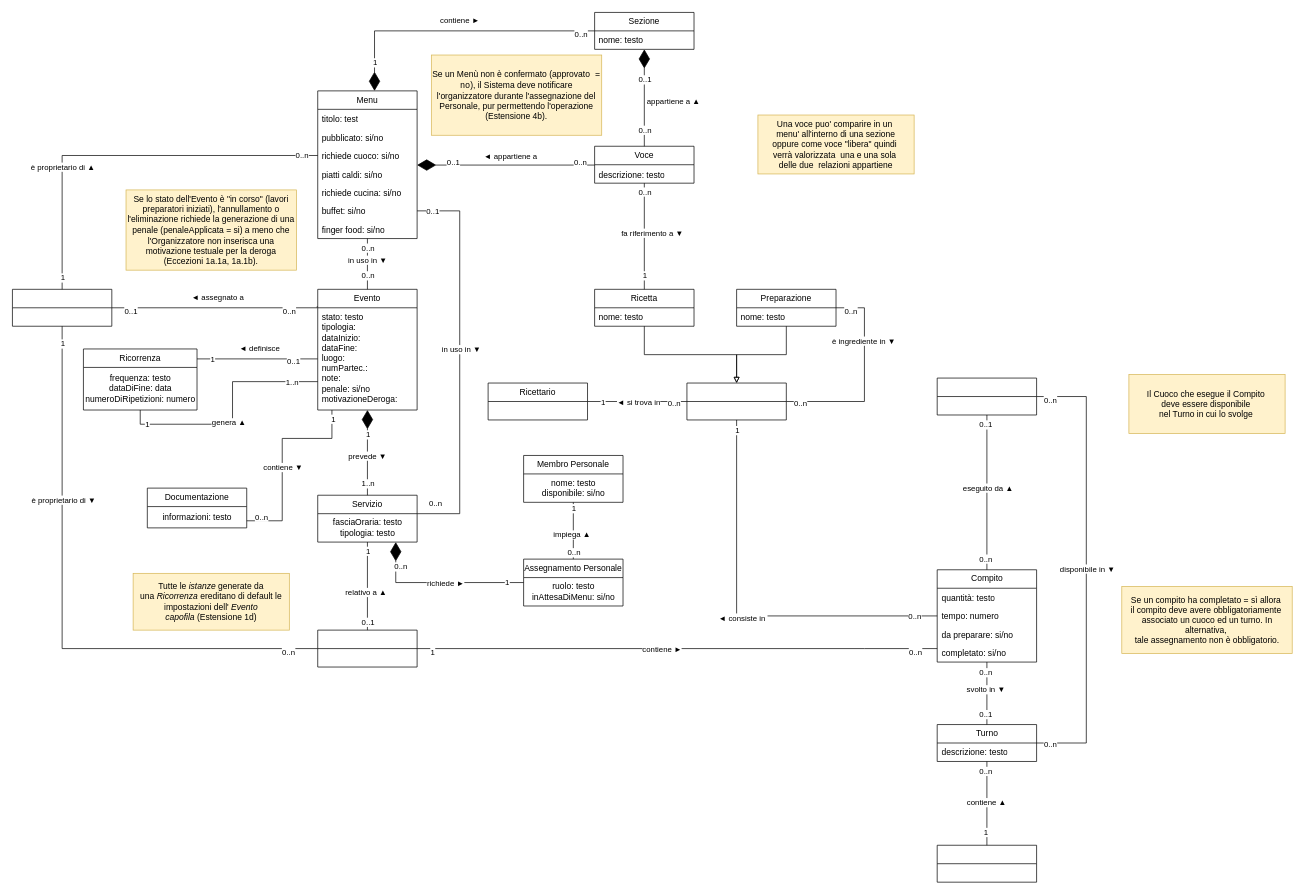
The diagram is 1305 pixels wide and 895 high, and some of its shapes have lost their labels. Each missing label, with the centre of its shape:
Chef: point (62, 307)
Cuoco: point (986, 396)
Foglio riepilogativo: point (367, 648)
Mansione di cucina: point (736, 401)
Tabellone dei turni: point (986, 863)
